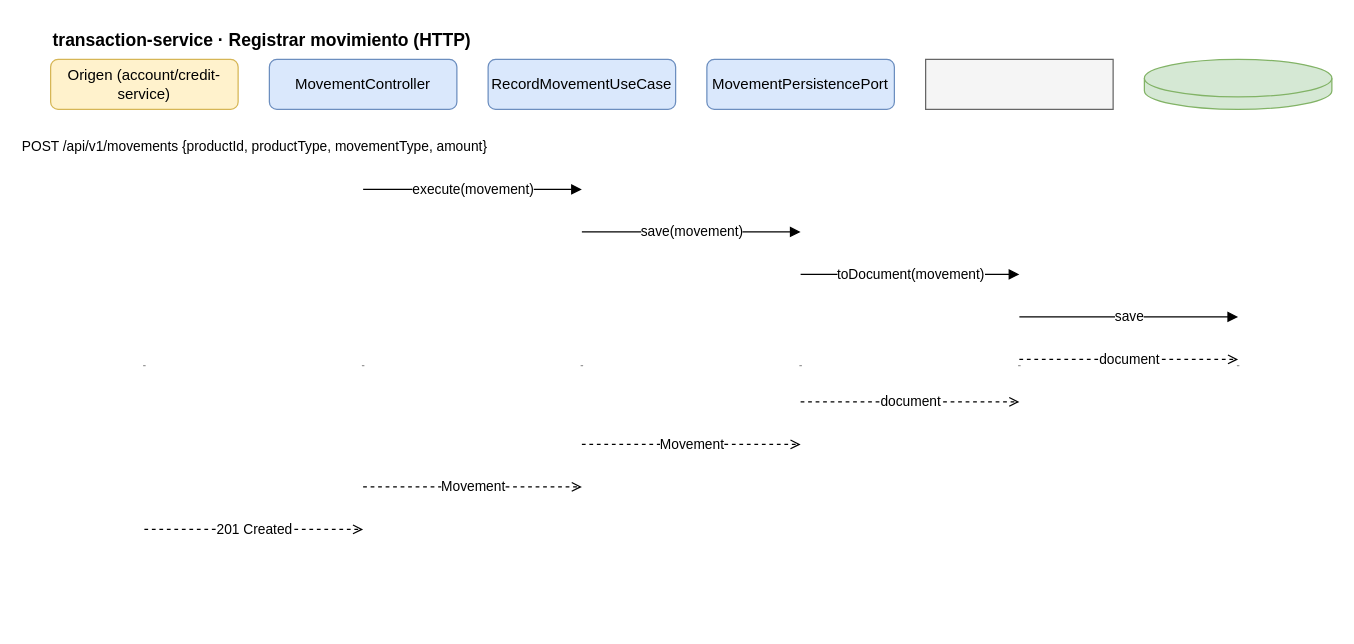
This 1354x644 diagram has some shape labels left out. The centre of each missing label's shape, as x and y in pixels:
MongoDB: the point at 1237,83
MovementMongoAdapter: the point at 1018,83
